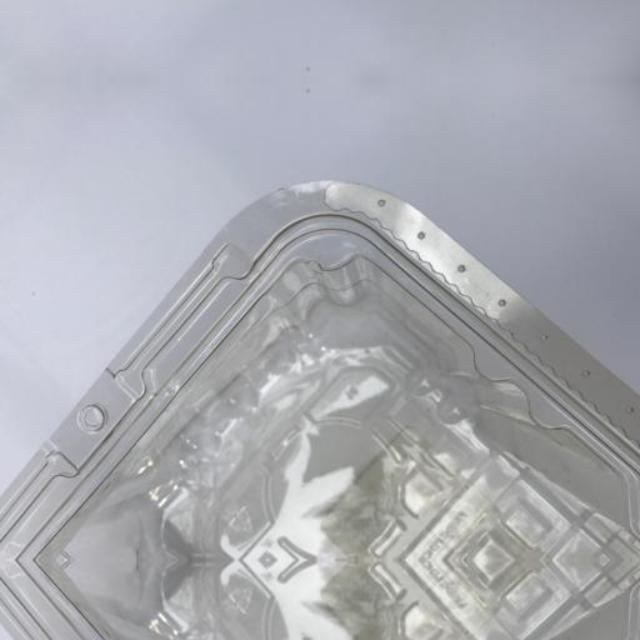Plastic: (0, 178, 640, 560), (0, 560, 640, 640)
